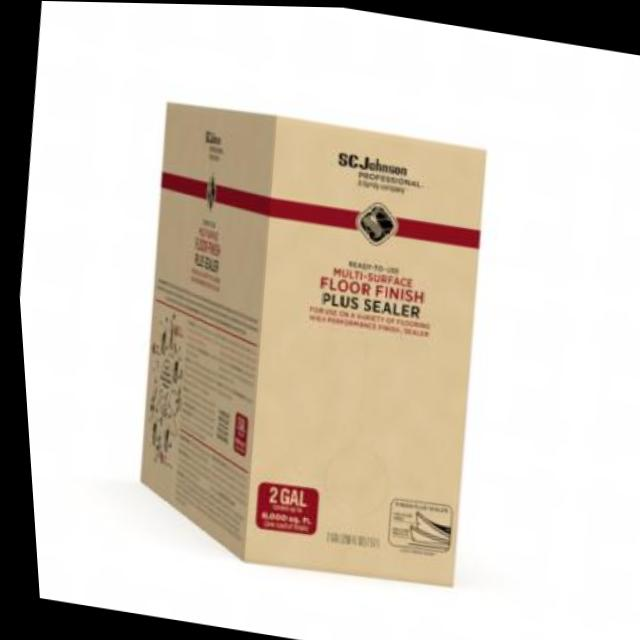box: (91, 74, 527, 613)
